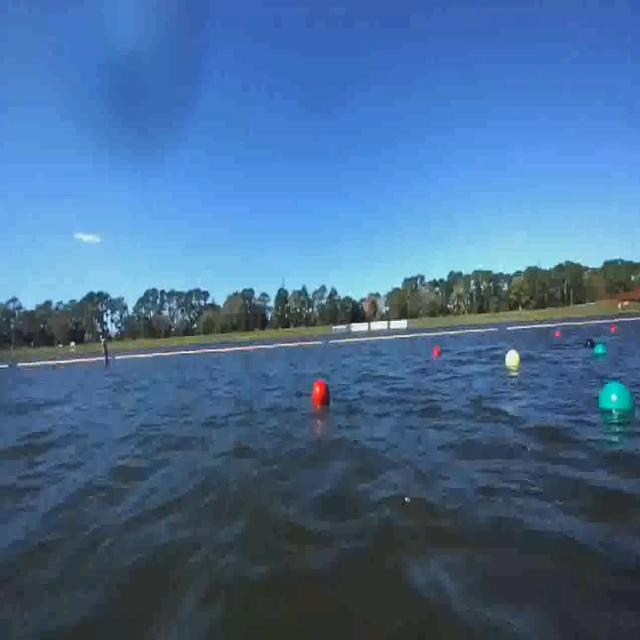green-buoy: (598, 381, 636, 418), (594, 344, 607, 358)
red-buoy: (316, 379, 332, 408), (432, 346, 440, 359), (613, 328, 619, 336)
yellow-buoy: (504, 349, 520, 368)
